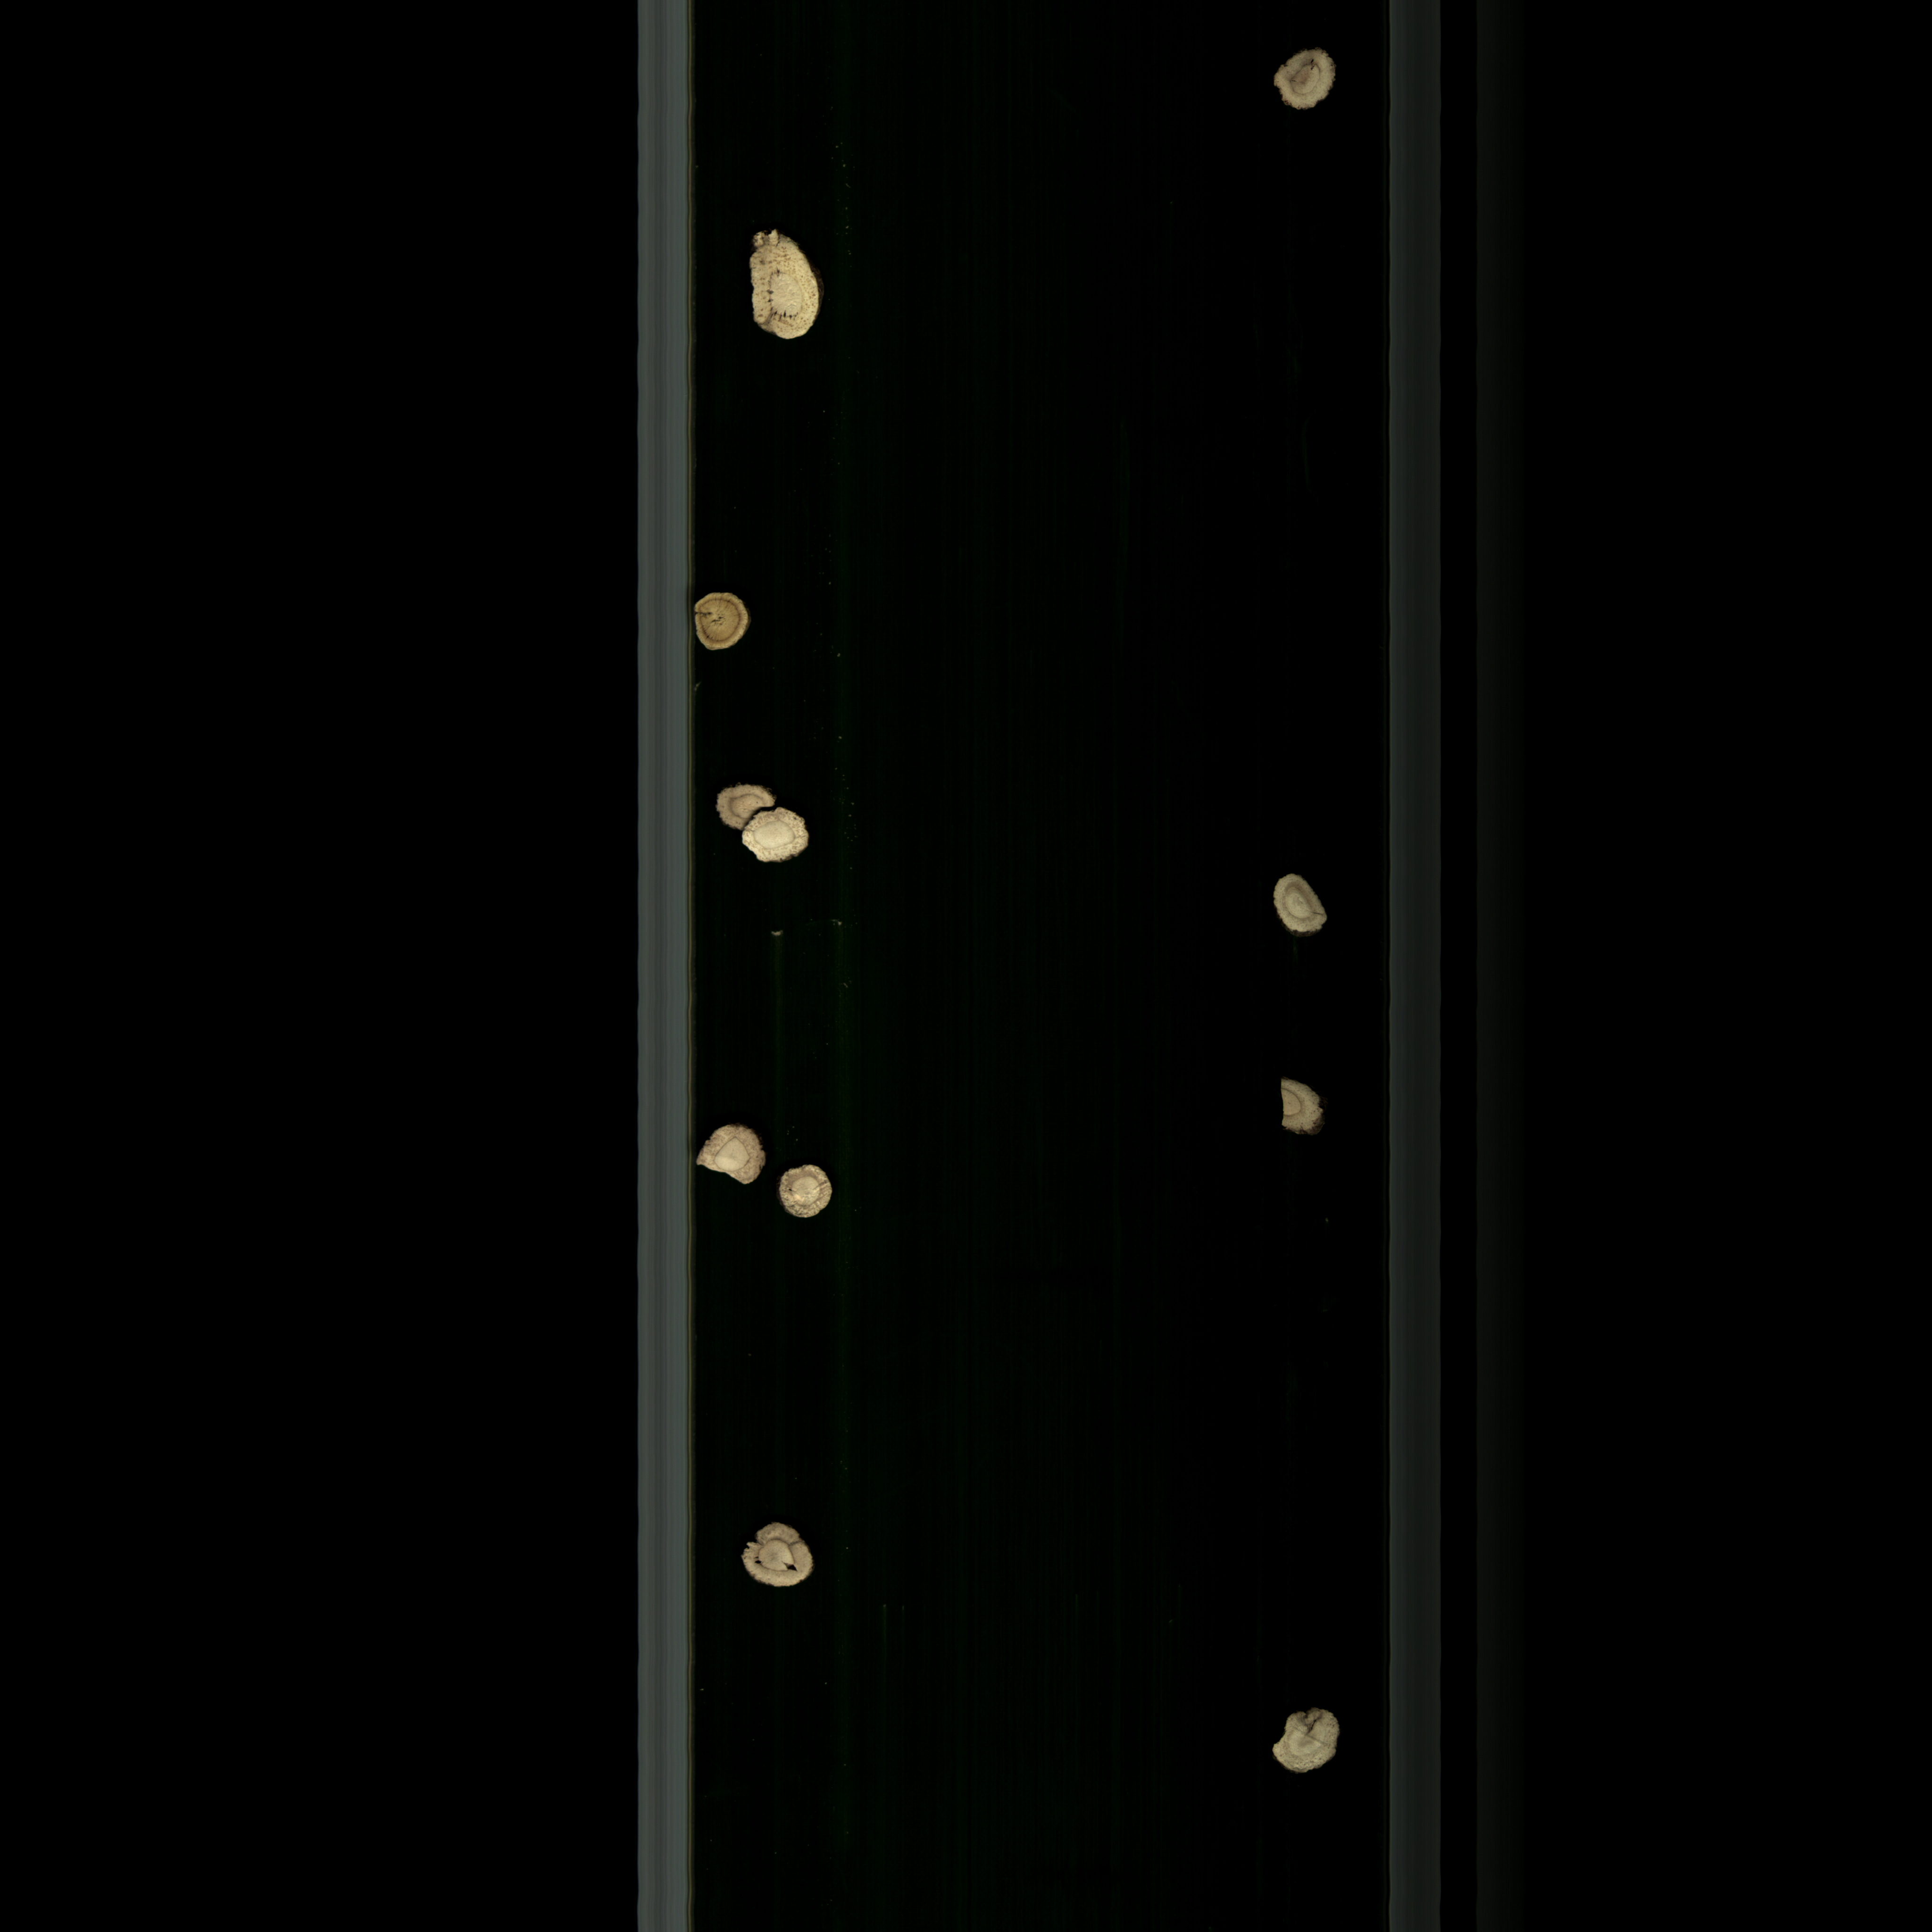debris: (1265, 1704, 1346, 1783), (694, 1118, 773, 1189)
distortion: (1269, 870, 1334, 941)
hole: (725, 1520, 823, 1594)
moldy: (741, 214, 824, 356), (1265, 39, 1343, 124), (1267, 1065, 1336, 1152), (690, 591, 764, 663), (768, 1162, 844, 1224), (709, 780, 778, 833)
